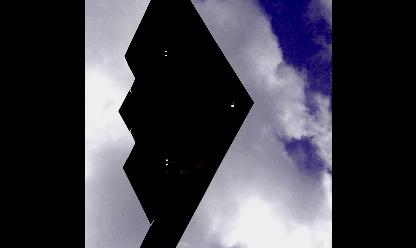B1: (117, 0, 254, 245)
